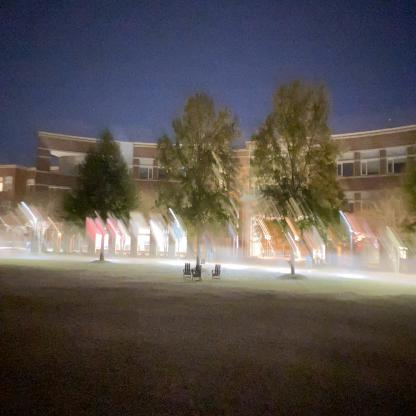eb2: (34, 119, 416, 273)
